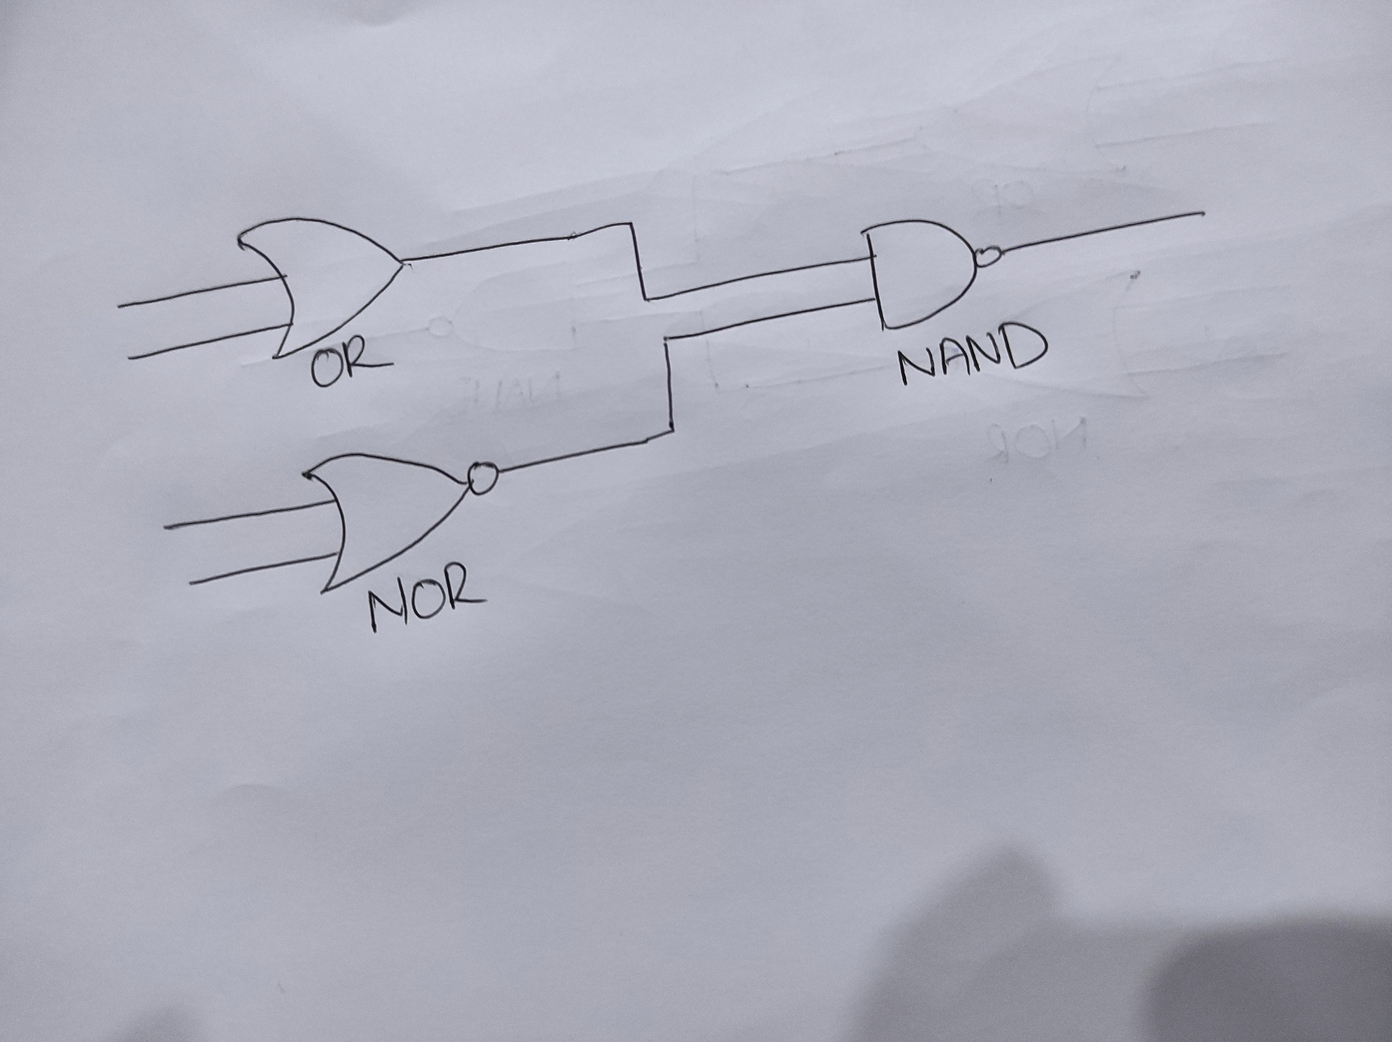junction: (659, 416, 685, 443), (617, 212, 643, 233), (656, 329, 675, 349), (635, 291, 654, 306)
nand: (856, 215, 1008, 334)
nor: (298, 449, 504, 595)
or: (233, 213, 415, 362)
terminal: (1191, 204, 1213, 223), (154, 520, 174, 536), (183, 575, 199, 592), (112, 299, 128, 313), (121, 352, 137, 364)
text: (364, 557, 491, 636), (897, 323, 1049, 385), (306, 332, 398, 391)
